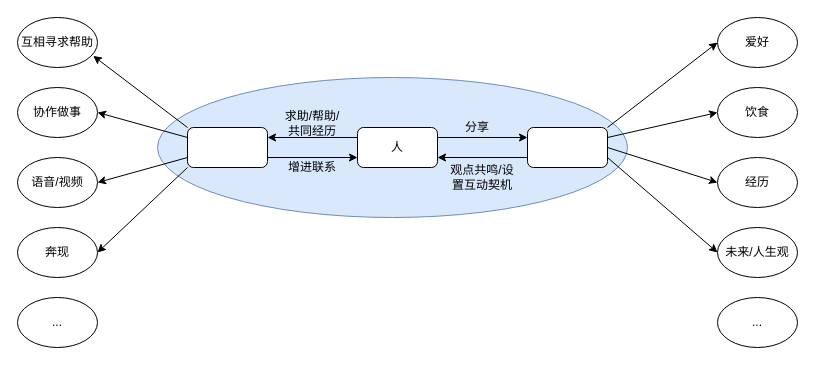
The diagram is 815 pixels wide and 365 high, and some of its shapes have lost their labels. Here are the shapes that lost their labels. From the top down, the centre of each, then its label:
At pixel 227 147: "互动".
At pixel 567 147: "话题".
